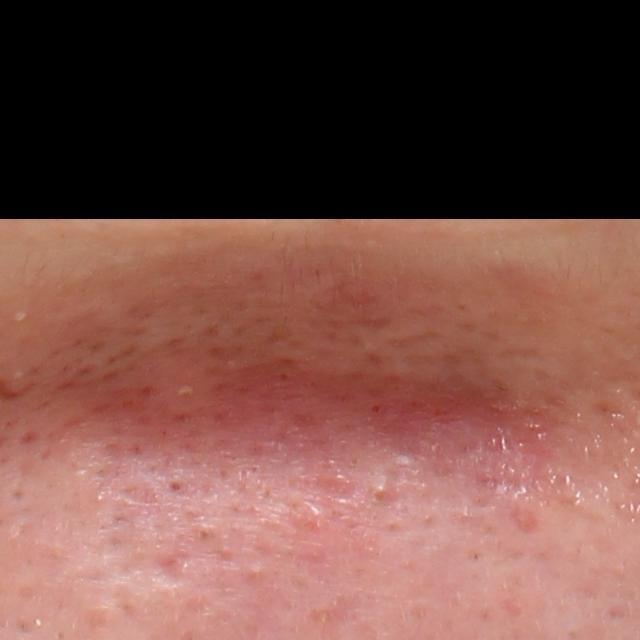atrophic_scar: (108, 552, 186, 590)
comedo: (166, 477, 187, 498)
papule: (243, 560, 267, 585), (325, 468, 352, 487), (368, 480, 390, 500)
